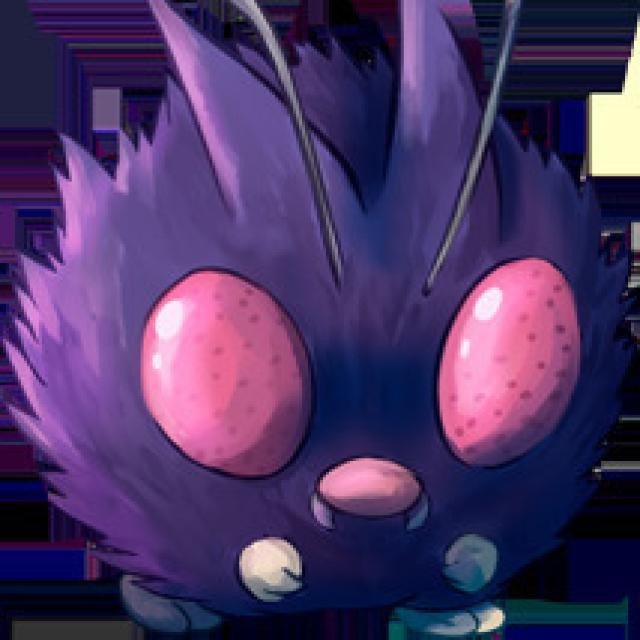Venonat: (41, 31, 612, 637)
